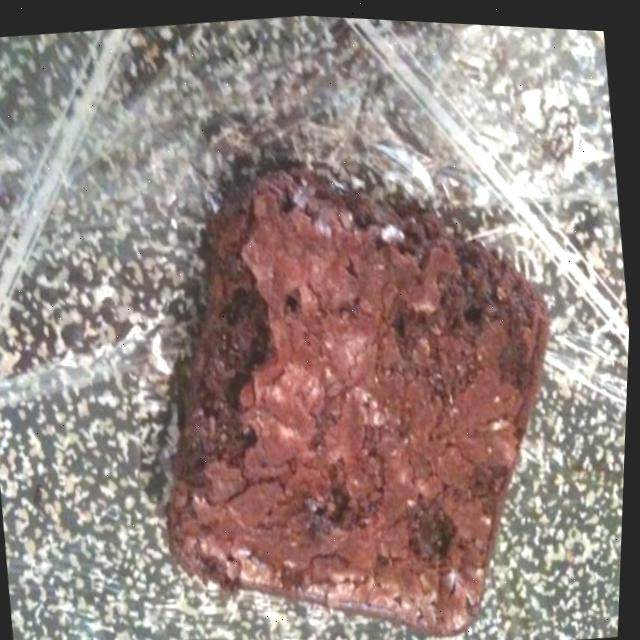蛋糕甜品: (100, 107, 604, 640)
